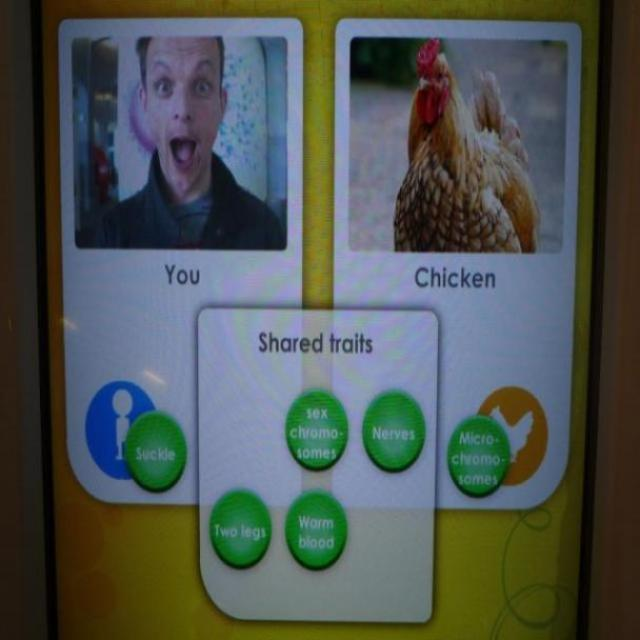Chicken: (389, 54, 544, 272)
